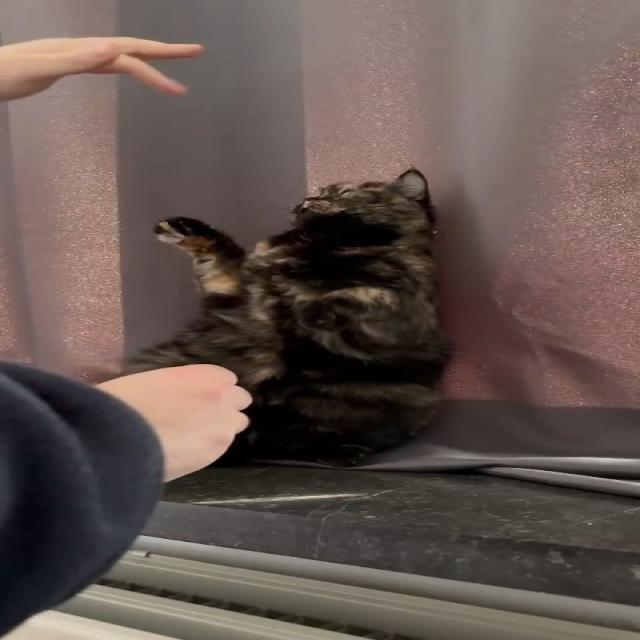authorized: (118, 166, 454, 468)
